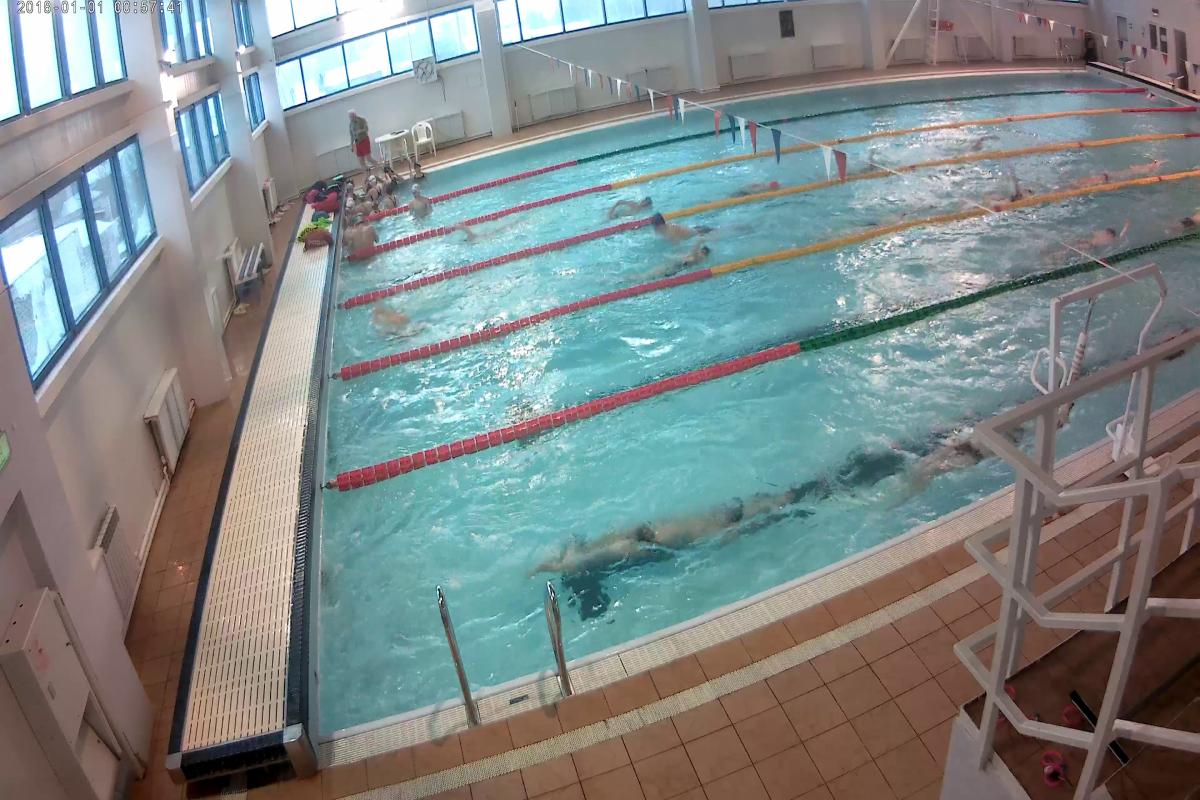swimmer: (580, 493, 759, 563), (875, 415, 982, 475), (1034, 220, 1137, 249), (369, 290, 418, 348), (588, 190, 660, 216), (649, 244, 711, 274), (644, 211, 700, 244), (406, 181, 436, 232), (730, 174, 782, 194), (1124, 153, 1169, 171)
